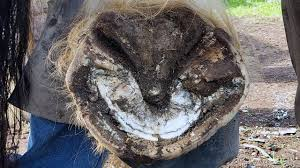horsesole: (65, 33, 251, 159)
